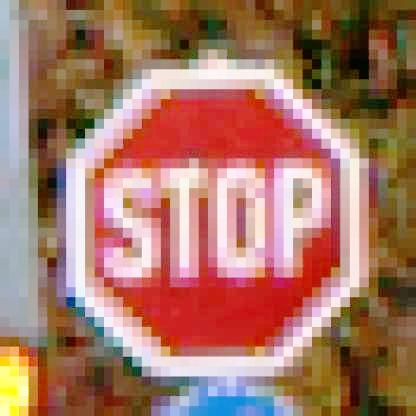Stop Sign: (73, 59, 371, 378)
